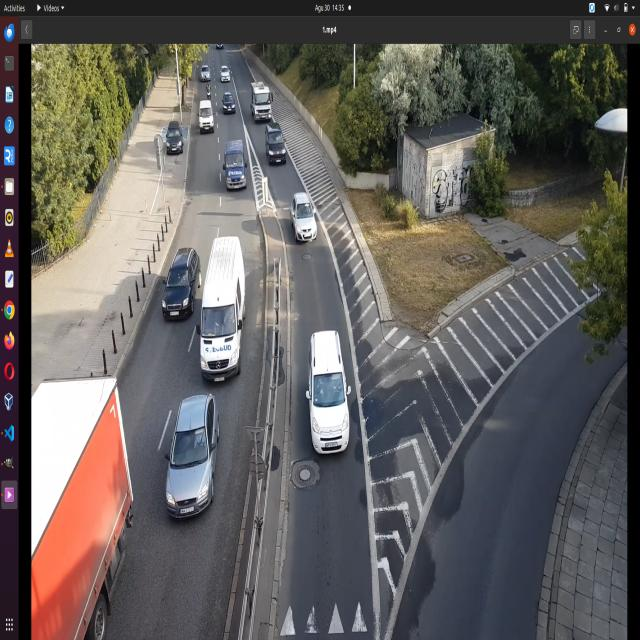person_with_seatbelt: (193, 427, 207, 451)
